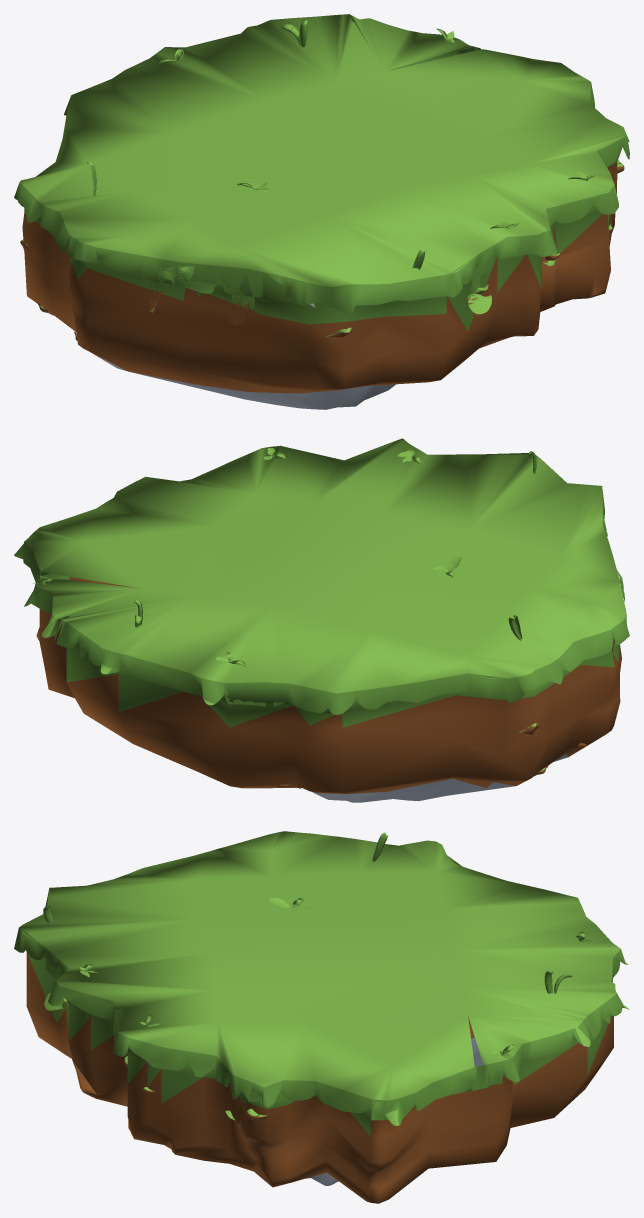
Rendered from SM_bob_map_island_land.fbx.
3 views of the same model, one above another, from view 1: azimuth 30°, elevation 25°; view 2: azimuth 150°, elevation 25°; view 3: azimuth 270°, elevation 25° (orthographic). The views are drawn at different scales.
Parts seen in each view (by area): view 1: SM_bob_map_island_land; view 2: SM_bob_map_island_land; view 3: SM_bob_map_island_land.
Boxes of the visible parts, x1,y1,x2,y2 form: SM_bob_map_island_land: (14, 14, 629, 409); SM_bob_map_island_land: (14, 438, 629, 802); SM_bob_map_island_land: (14, 831, 629, 1203).
Size of the model in its own units: 1136 by 450 by 1099.
Materials: 1 (1 with a texture image).
